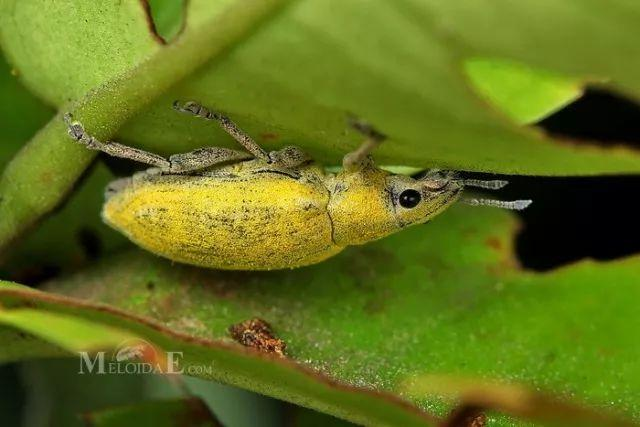Curculionidae: (62, 97, 533, 273)
